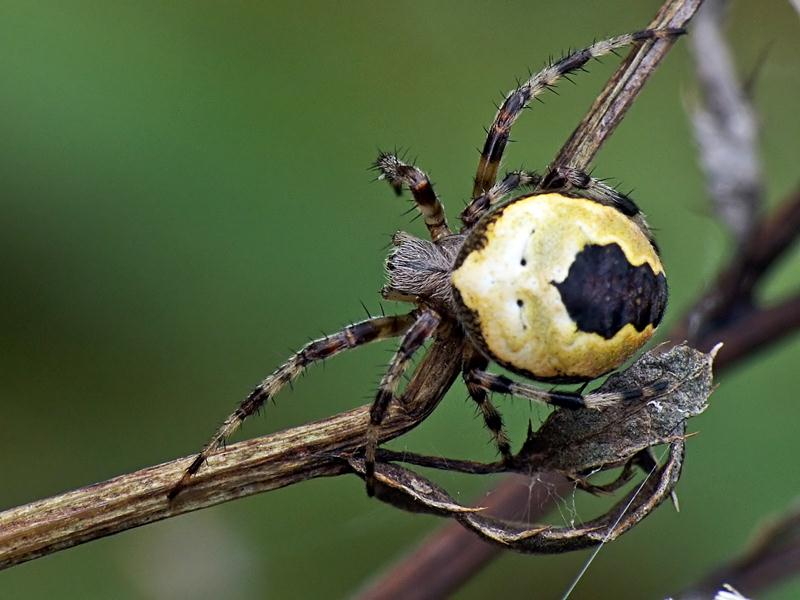spider: (147, 19, 731, 515)
